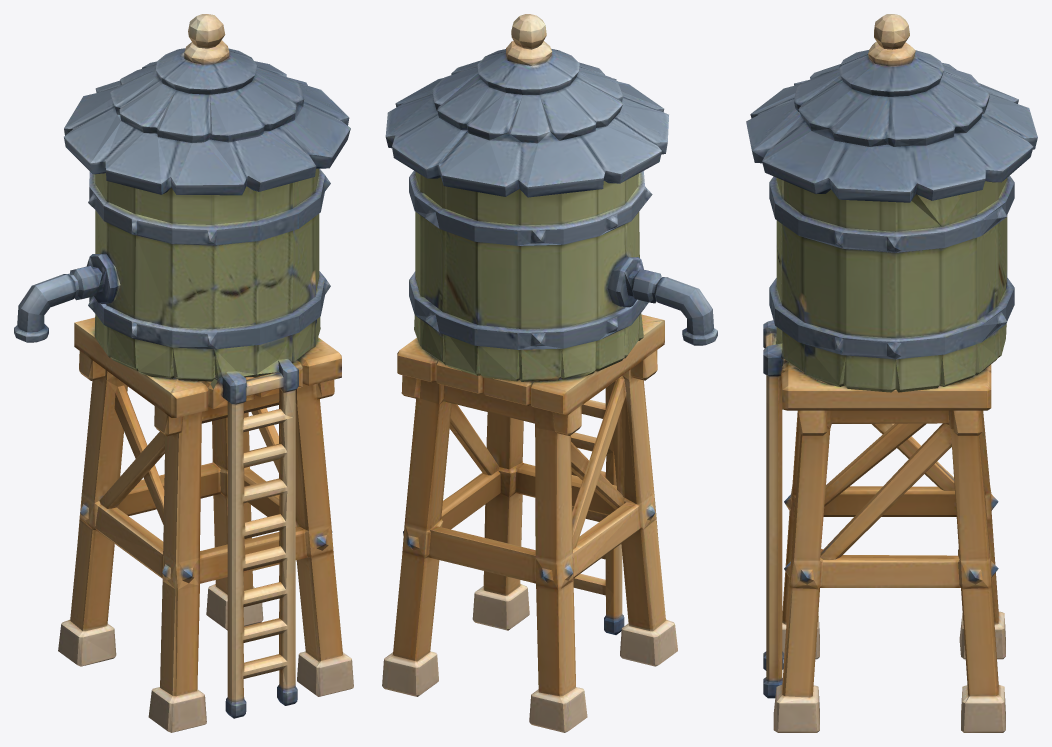
Rendered from tower-BLYBrl6h.glb.
The picture shows the model from 3 angles, left to right: view 1: azimuth 30°, elevation 25°; view 2: azimuth 150°, elevation 25°; view 3: azimuth 270°, elevation 25°; orthographic projection. The views are drawn at different scales.
Parts seen in each view (by area): view 1: tripo_node_5821c566-3e0a-4939-97cd-5b4afe5763b9; view 2: tripo_node_5821c566-3e0a-4939-97cd-5b4afe5763b9; view 3: tripo_node_5821c566-3e0a-4939-97cd-5b4afe5763b9.
Part boxes in pixels (x1,y1,x2,y2): tripo_node_5821c566-3e0a-4939-97cd-5b4afe5763b9: (14, 14, 353, 732); tripo_node_5821c566-3e0a-4939-97cd-5b4afe5763b9: (382, 14, 717, 732); tripo_node_5821c566-3e0a-4939-97cd-5b4afe5763b9: (746, 14, 1037, 732).
Bounding box in the file's own units: 0.4879 × 0.9778 × 0.3846.
Materials: 1 (1 with a texture image).
